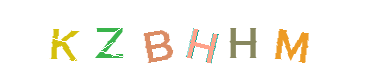B: (144, 0, 224, 80)
H: (155, 0, 235, 80), (162, 0, 242, 80)
K: (87, 0, 167, 80)
M: (201, 0, 281, 80)
Z: (143, 0, 223, 80)
